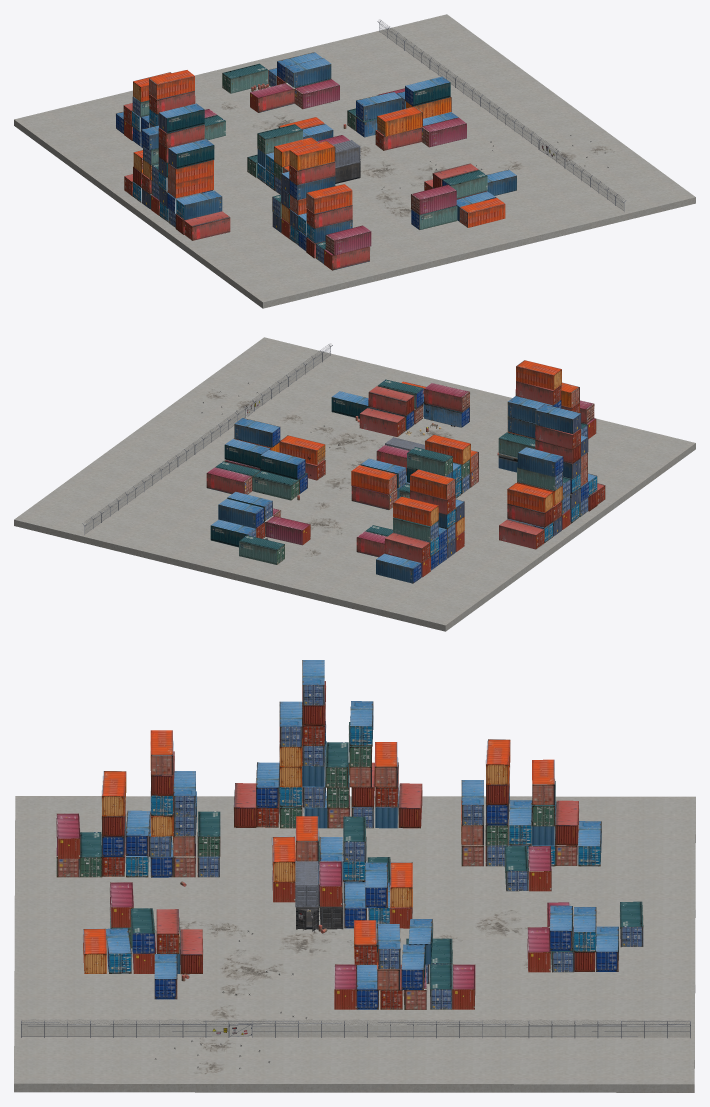
The model's file is port.glb.
3 renders of one model, top to bottom at view 1: azimuth 30°, elevation 25°; view 2: azimuth 150°, elevation 25°; view 3: azimuth 270°, elevation 25°, orthographic. The views are drawn at different scales.
Visible parts, largest first — view 1: polySurface1056_concrete_0, pCube105_container_0, pCube115_container_0, pCube182_container_0, pCube120_container_0, group8_polySurface702_container_0, pCube517_container_0, group8_polySurface818_container_0, pCube121_container_0, pCube129_container_0, pCube177_container_0, group8_polySurface811_container_0 (+25 smaller); view 2: polySurface1056_concrete_0, group8_polySurface713_container_0, pCube121_container_0, pCube124_container_0, pCube145_container_0, pCube159_container_0, pCube131_container_0, pCube134_container_0, pCube130_container_0, group8_polySurface811_container_0, pCube155_container_0, pCube115_container_0 (+31 smaller); view 3: polySurface1056_concrete_0, group8_polySurface737_container_0, pCube105_container_0, pCube518_container_0, group8_polySurface818_container_0, pCube181_container_0, pCube129_container_0, group8_polySurface734_container_0, pCube123_container_0, pCube120_container_0, group8_polySurface817_container_0, group8_polySurface805_container_0 (+39 smaller).
Part boxes in pixels (left/top/right/bottom): polySurface1056_concrete_0: left=14, top=14, right=695, bottom=308; pCube105_container_0: left=306, top=184, right=352, bottom=213; pCube115_container_0: left=289, top=140, right=335, bottom=170; pCube182_container_0: left=285, top=58, right=331, bottom=87; pCube120_container_0: left=168, top=139, right=214, bottom=168; group8_polySurface702_container_0: left=176, top=190, right=222, bottom=220; pCube517_container_0: left=459, top=198, right=505, bottom=227; group8_polySurface818_container_0: left=325, top=225, right=371, bottom=255; pCube121_container_0: left=159, top=103, right=204, bottom=133; pCube129_container_0: left=149, top=70, right=194, bottom=99; pCube177_container_0: left=184, top=211, right=230, bottom=240; group8_polySurface811_container_0: left=411, top=185, right=456, bottom=214; polySurface1056_concrete_0: left=14, top=337, right=695, bottom=631; group8_polySurface713_container_0: left=517, top=447, right=563, bottom=477; pCube121_container_0: left=535, top=404, right=581, bottom=433; pCube124_container_0: left=507, top=483, right=553, bottom=512; pCube145_container_0: left=351, top=465, right=397, bottom=494; pCube159_container_0: left=234, top=418, right=280, bottom=447; pCube131_container_0: left=384, top=532, right=430, bottom=562; pCube134_container_0: left=368, top=386, right=414, bottom=415; pCube130_container_0: left=393, top=496, right=438, bottom=526; group8_polySurface811_container_0: left=424, top=383, right=469, bottom=412; pCube155_container_0: left=260, top=450, right=305, bottom=479; pCube115_container_0: left=516, top=360, right=561, bottom=389; polySurface1056_concrete_0: left=14, top=796, right=695, bottom=1092; group8_polySurface737_container_0: left=106, top=928, right=131, bottom=973; pCube105_container_0: left=102, top=771, right=126, bottom=816; pCube518_container_0: left=154, top=954, right=177, bottom=999; group8_polySurface818_container_0: left=56, top=813, right=80, bottom=858; pCube181_container_0: left=401, top=944, right=425, bottom=989; pCube129_container_0: left=486, top=739, right=510, bottom=784; group8_polySurface734_container_0: left=130, top=908, right=154, bottom=953; pCube123_container_0: left=398, top=783, right=422, bottom=828; pCube120_container_0: left=279, top=701, right=302, bottom=746; group8_polySurface817_container_0: left=573, top=907, right=596, bottom=952; group8_polySurface805_container_0: left=504, top=846, right=528, bottom=891.
Bounding box in the file's own units: 2.47 × 0.6023 × 2.47.
33 materials, 33 textured.
